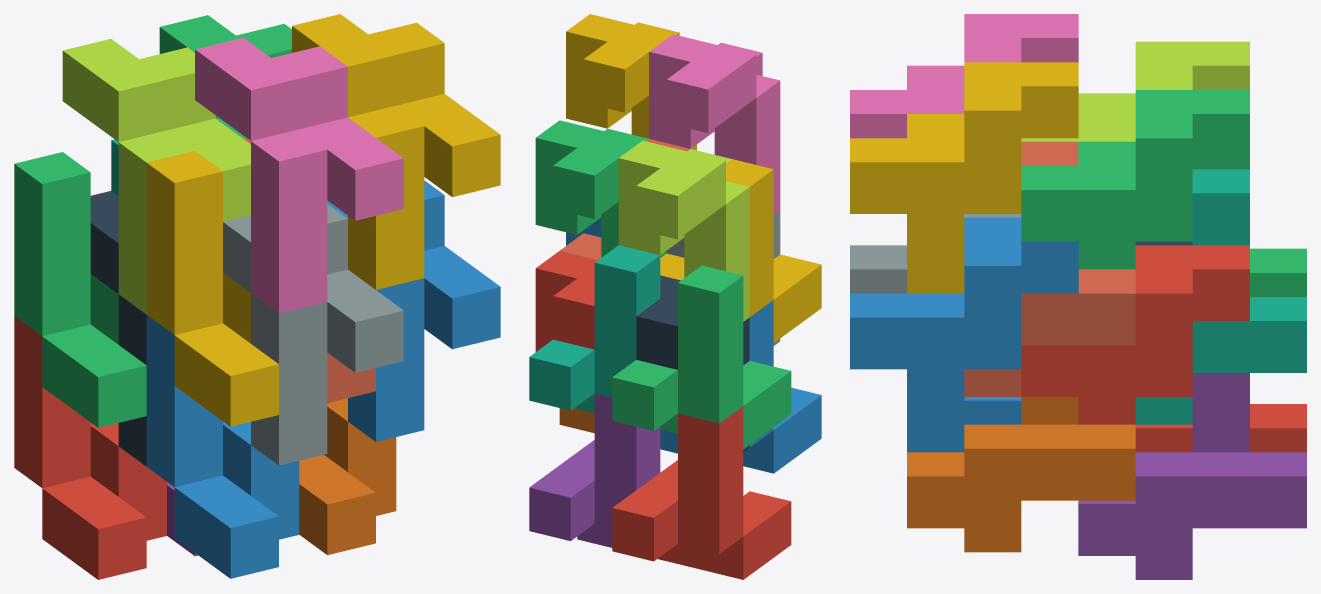
Rendered from tiling.obj.
3 views of the same model, side by side, from view 1: azimuth 30°, elevation 25°; view 2: azimuth 150°, elevation 25°; view 3: azimuth 270°, elevation 25° (orthographic). The views are drawn at different scales.
Visible parts, largest first — view 1: copy_2_domain_4, copy_2_domain_8, copy_1_domain_3, copy_1_domain_4, copy_1_domain_2, copy_1_domain_1, copy_2_domain_3, copy_2_domain_2, copy_2_domain_6, copy_1_domain_6, copy_2_domain_1, copy_2_domain_7 (+1 smaller); view 2: copy_1_domain_1, copy_1_domain_3, copy_2_domain_4, copy_2_domain_3, copy_1_domain_7, copy_1_domain_5, copy_2_domain_7, copy_2_domain_8, copy_1_domain_4, copy_1_domain_2, copy_2_domain_5, copy_2_domain_1 (+3 smaller); view 3: copy_2_domain_8, copy_2_domain_6, copy_2_domain_7, copy_1_domain_5, copy_1_domain_6, copy_2_domain_5, copy_1_domain_7, copy_2_domain_4, copy_1_domain_8, copy_2_domain_3, copy_1_domain_1, copy_1_domain_3 (+2 smaller).
Boxes of the visible parts, x1=… form: copy_2_domain_4: x1=195, y1=37, x2=403, y2=313; copy_2_domain_8: x1=292, y1=14, x2=500, y2=289; copy_1_domain_3: x1=14, y1=152, x2=146, y2=427; copy_1_domain_4: x1=146, y1=151, x2=278, y2=426; copy_1_domain_2: x1=146, y1=315, x2=299, y2=578; copy_1_domain_1: x1=14, y1=316, x2=166, y2=579; copy_2_domain_3: x1=62, y1=39, x2=250, y2=314; copy_2_domain_2: x1=223, y1=204, x2=403, y2=465; copy_2_domain_6: x1=327, y1=180, x2=500, y2=441; copy_1_domain_6: x1=299, y1=398, x2=396, y2=554; copy_2_domain_1: x1=90, y1=191, x2=146, y2=466; copy_2_domain_7: x1=159, y1=15, x2=291, y2=138; copy_1_domain_1: x1=612, y1=406, x2=791, y2=579; copy_1_domain_3: x1=612, y1=265, x2=791, y2=449; copy_2_domain_4: x1=649, y1=34, x2=780, y2=215; copy_2_domain_3: x1=618, y1=140, x2=749, y2=321; copy_1_domain_7: x1=529, y1=245, x2=660, y2=412; copy_1_domain_5: x1=529, y1=393, x2=660, y2=559; copy_2_domain_7: x1=535, y1=120, x2=666, y2=257; copy_2_domain_8: x1=566, y1=14, x2=696, y2=150; copy_1_domain_4: x1=660, y1=159, x2=821, y2=342; copy_1_domain_2: x1=660, y1=300, x2=821, y2=473; copy_2_domain_5: x1=535, y1=251, x2=597, y2=351; copy_2_domain_1: x1=636, y1=275, x2=749, y2=451; copy_2_domain_8: x1=850, y1=62, x2=1078, y2=293; copy_2_domain_6: x1=850, y1=217, x2=1078, y2=448; copy_2_domain_7: x1=1021, y1=90, x2=1249, y2=269; copy_1_domain_5: x1=1078, y1=373, x2=1306, y2=579; copy_1_domain_6: x1=907, y1=397, x2=1135, y2=552; copy_2_domain_5: x1=1021, y1=245, x2=1249, y2=424; copy_1_domain_7: x1=1135, y1=169, x2=1306, y2=424; copy_2_domain_4: x1=850, y1=14, x2=1078, y2=138; copy_1_domain_8: x1=964, y1=141, x2=1135, y2=396; copy_2_domain_3: x1=1021, y1=41, x2=1249, y2=141; copy_1_domain_1: x1=1135, y1=404, x2=1306, y2=452; copy_1_domain_3: x1=1192, y1=165, x2=1306, y2=296.
Bounding box in the file's own units: 6 × 10 × 8.
